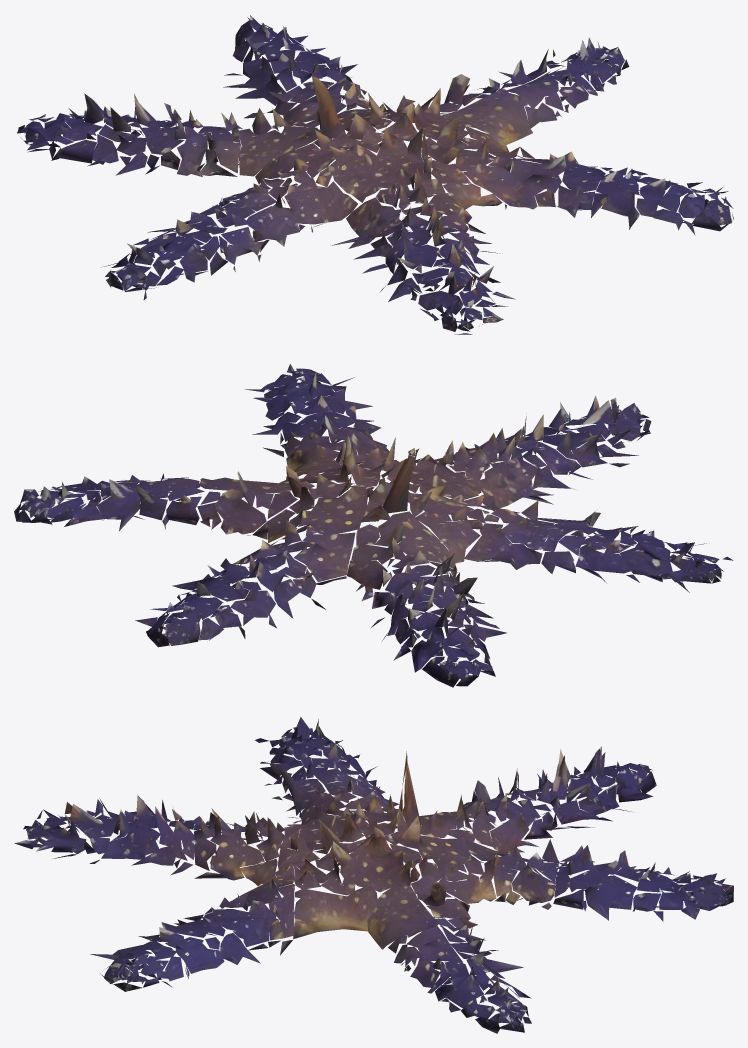
Rendered from star_big_spiny.glb.
The picture shows the model from 3 angles, top to bottom: view 1: azimuth 30°, elevation 25°; view 2: azimuth 150°, elevation 25°; view 3: azimuth 270°, elevation 25°; orthographic projection.
Parts seen in each view (by area): view 1: tripo_node_2a6883da-51bd-4301-b0ed-1d5385cc1012; view 2: tripo_node_2a6883da-51bd-4301-b0ed-1d5385cc1012; view 3: tripo_node_2a6883da-51bd-4301-b0ed-1d5385cc1012.
Part boxes in pixels (x1,y1,x2,y2): tripo_node_2a6883da-51bd-4301-b0ed-1d5385cc1012: [17, 15, 733, 334]; tripo_node_2a6883da-51bd-4301-b0ed-1d5385cc1012: [14, 364, 733, 687]; tripo_node_2a6883da-51bd-4301-b0ed-1d5385cc1012: [14, 717, 733, 1033].
Size of the model in its own units: 0.9625 by 0.1741 by 0.9899.
1 material, 1 textured.
